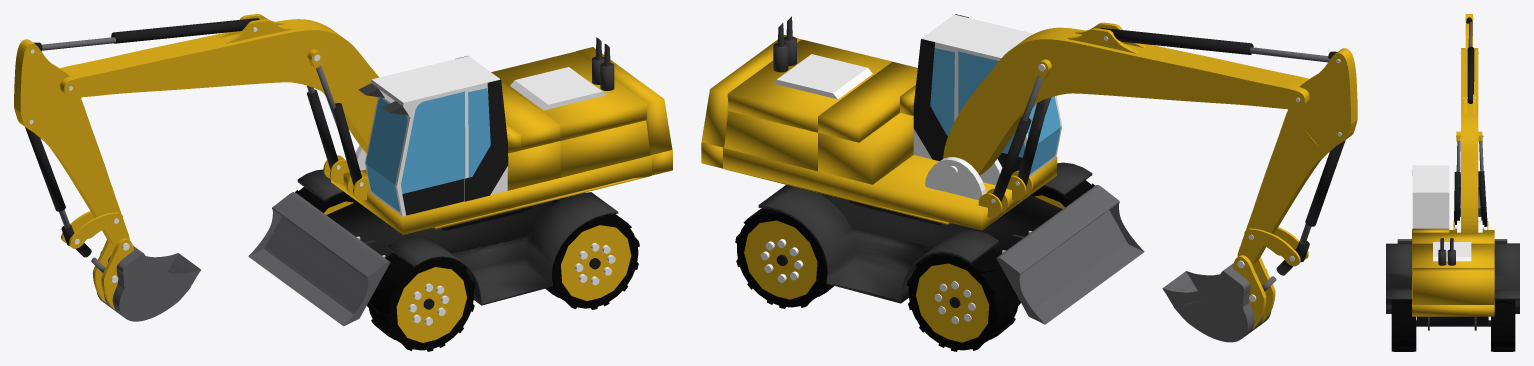
Rendered from excavadora.glb.
3 renders of one model, left to right at view 1: azimuth 30°, elevation 25°; view 2: azimuth 150°, elevation 25°; view 3: azimuth 270°, elevation 25°, orthographic. The views are drawn at different scales.
Visible parts, largest first — view 1: Plane.003, Brazo_principal, Pala_2.001, Circle.008, Brazo_abazo, Cabina, Plane.002, Plane.010, Pala, Yanta_2, Circle.002, Circle.007 (+17 smaller); view 2: Plane.003, Brazo_principal, Pala_2.001, Circle.009, Brazo_abazo, Plane.010, Pala, Yanta_3, Circle.003, Circle.005, Cabina, Yanta_3.001 (+19 smaller); view 3: Plane.003, Brazo_principal, Cabina, Circle.008, Circle.009, Yanta_2.001, Yanta_3.001, Plane.010, Radiador, Cylinder.006, Cylinder.015, Cylinder.016 (+9 smaller).
Boxes of the visible parts, x1=… form: Plane.003: x1=331, y1=47, x2=672, y2=234; Brazo_principal: x1=60, y1=19, x2=378, y2=153; Pala_2.001: x1=248, y1=192, x2=390, y2=326; Circle.008: x1=387, y1=192, x2=618, y2=305; Brazo_abazo: x1=14, y1=39, x2=129, y2=246; Cabina: x1=365, y1=56, x2=507, y2=216; Plane.002: x1=401, y1=91, x2=465, y2=193; Plane.010: x1=326, y1=197, x2=567, y2=256; Pala: x1=97, y1=245, x2=200, y2=321; Yanta_2: x1=366, y1=252, x2=475, y2=351; Circle.002: x1=396, y1=267, x2=466, y2=342; Circle.007: x1=561, y1=225, x2=631, y2=300; Plane.003: x1=701, y1=35, x2=1057, y2=230; Brazo_principal: x1=943, y1=27, x2=1309, y2=175; Pala_2.001: x1=996, y1=185, x2=1144, y2=324; Circle.009: x1=758, y1=185, x2=998, y2=303; Brazo_abazo: x1=1237, y1=48, x2=1357, y2=264; Plane.010: x1=817, y1=192, x2=1062, y2=253; Pala: x1=1162, y1=263, x2=1271, y2=342; Yanta_3: x1=907, y1=248, x2=1020, y2=351; Circle.003: x1=916, y1=263, x2=989, y2=342; Circle.005: x1=744, y1=220, x2=817, y2=299; Cabina: x1=913, y1=14, x2=1062, y2=176; Yanta_3.001: x1=735, y1=208, x2=833, y2=308; Plane.003: x1=1412, y1=228, x2=1494, y2=316; Brazo_principal: x1=1461, y1=48, x2=1478, y2=232; Cabina: x1=1412, y1=165, x2=1449, y2=228; Circle.008: x1=1386, y1=243, x2=1411, y2=313; Circle.009: x1=1494, y1=243, x2=1519, y2=313; Yanta_2.001: x1=1391, y1=299, x2=1416, y2=351; Yanta_3.001: x1=1491, y1=299, x2=1515, y2=351; Plane.010: x1=1417, y1=316, x2=1488, y2=324; Radiador: x1=1433, y1=242, x2=1471, y2=261; Cylinder.006: x1=1467, y1=46, x2=1474, y2=103; Cylinder.015: x1=1478, y1=171, x2=1487, y2=226; Cylinder.016: x1=1454, y1=171, x2=1460, y2=226.
Size of the model in its own units: 4.58 by 2.46 by 1.53.
